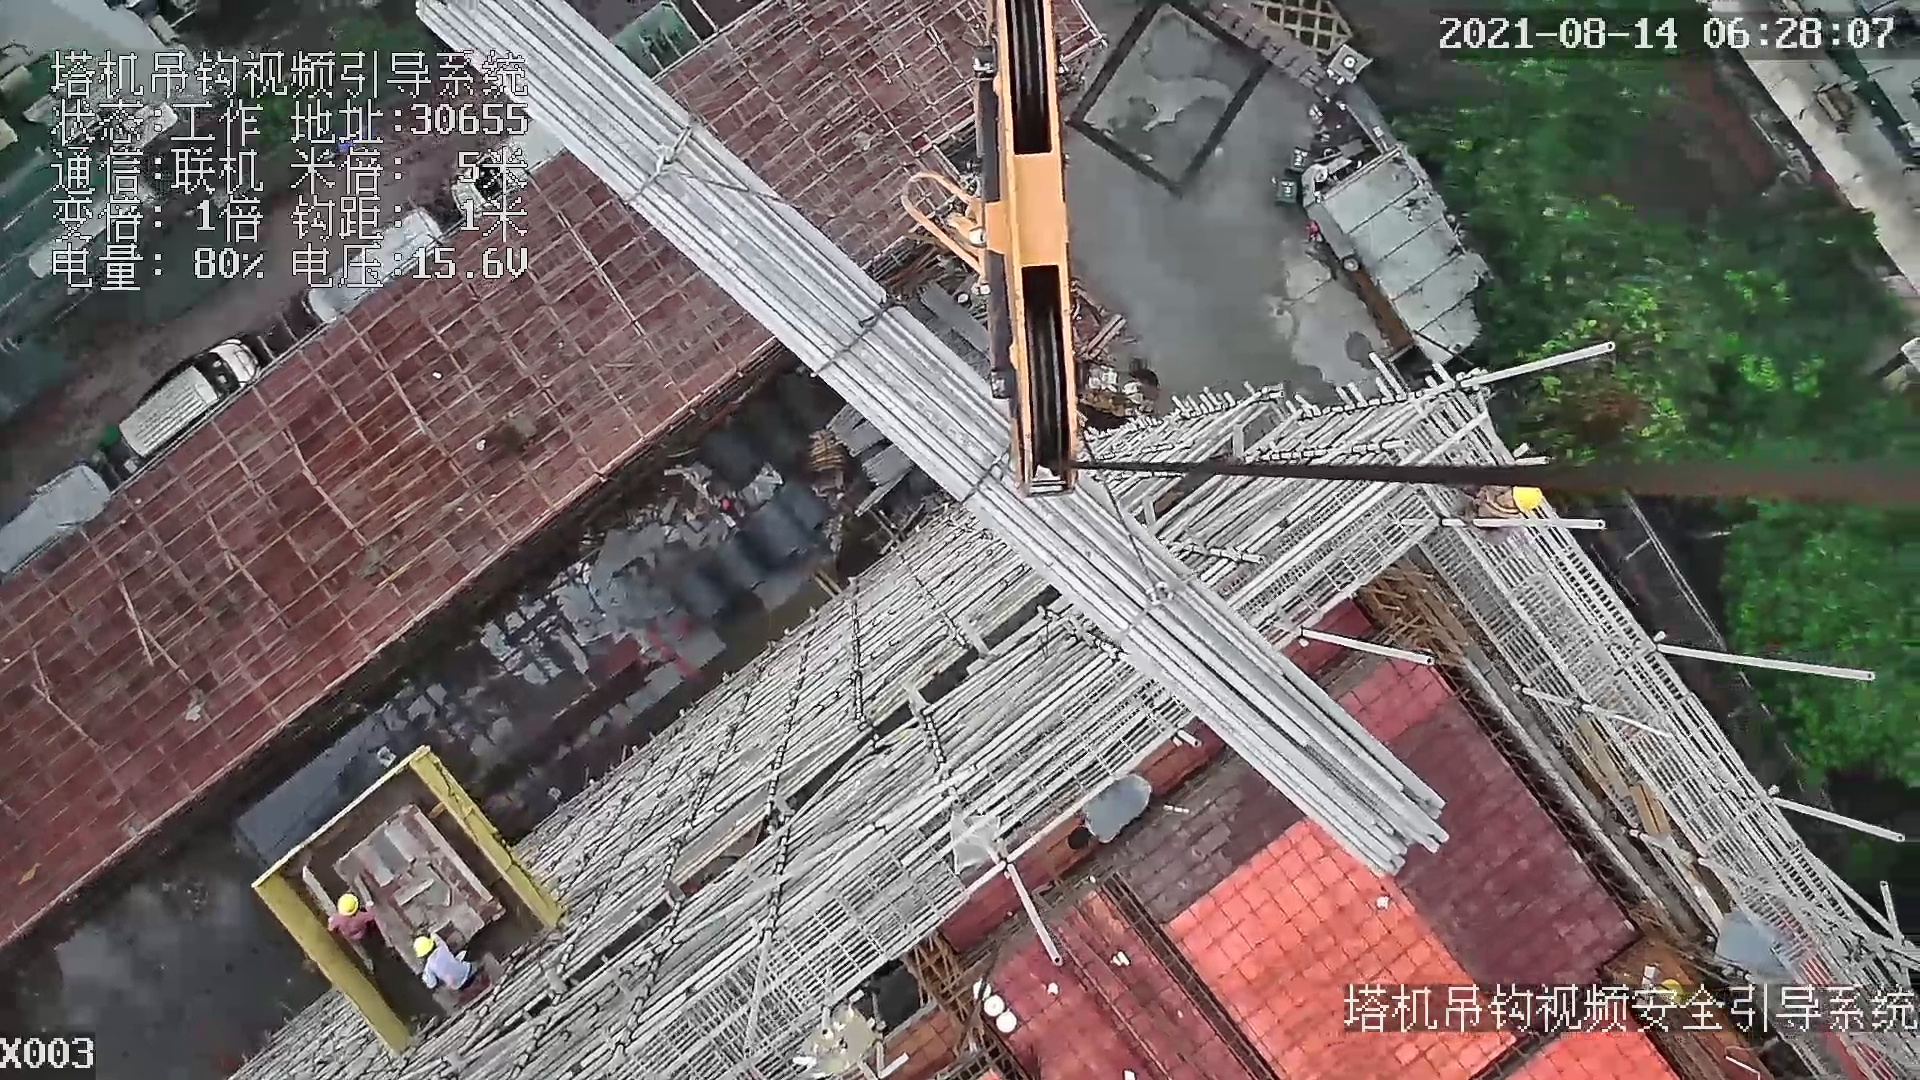helmet: (1511, 479, 1548, 516), (412, 935, 440, 964), (334, 893, 362, 918)
person: (404, 930, 476, 995), (312, 891, 378, 947), (1485, 482, 1544, 539)
